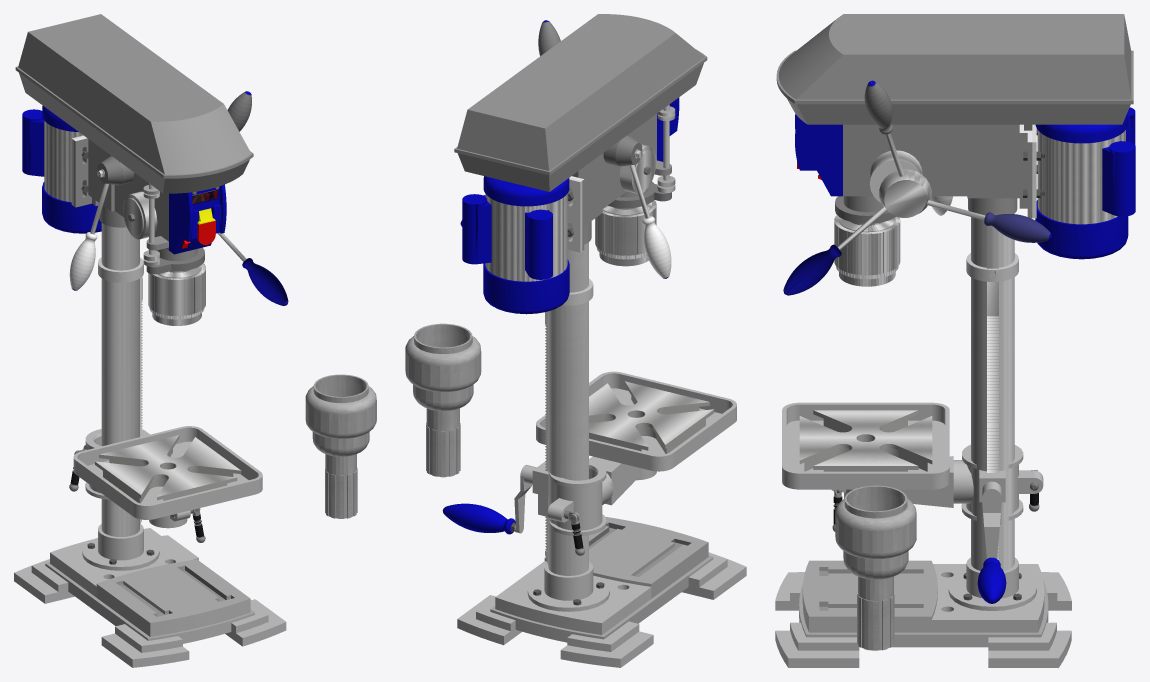
The picture shows the model from 3 angles, left to right: view 1: azimuth 30°, elevation 25°; view 2: azimuth 150°, elevation 25°; view 3: azimuth 270°, elevation 25°; orthographic projection. The views are drawn at different scales.
Parts seen in each view (by area): view 1: 01, 04, 1.003, 03, 02.001; view 2: 01, 04, 1.003, 03, 02.001; view 3: 01, 04, 1.003, 02.001, 03.
Part boxes in pixels (bbox=[...]): 01: bbox=[14, 14, 286, 667]; 04: bbox=[69, 426, 262, 542]; 1.003: bbox=[305, 374, 376, 518]; 03: bbox=[148, 263, 205, 325]; 02.001: bbox=[217, 91, 288, 305]; 01: bbox=[454, 14, 746, 667]; 04: bbox=[442, 371, 736, 555]; 1.003: bbox=[405, 323, 481, 477]; 03: bbox=[595, 200, 656, 266]; 02.001: bbox=[460, 20, 560, 226]; 01: bbox=[775, 14, 1135, 667]; 04: bbox=[782, 402, 1043, 603]; 1.003: bbox=[835, 485, 916, 650]; 02.001: bbox=[783, 80, 1051, 295]; 03: bbox=[834, 215, 900, 286].
Size of the model in its own units: 688 by 1225 by 676.
Materials: 36 (9 with a texture image).
